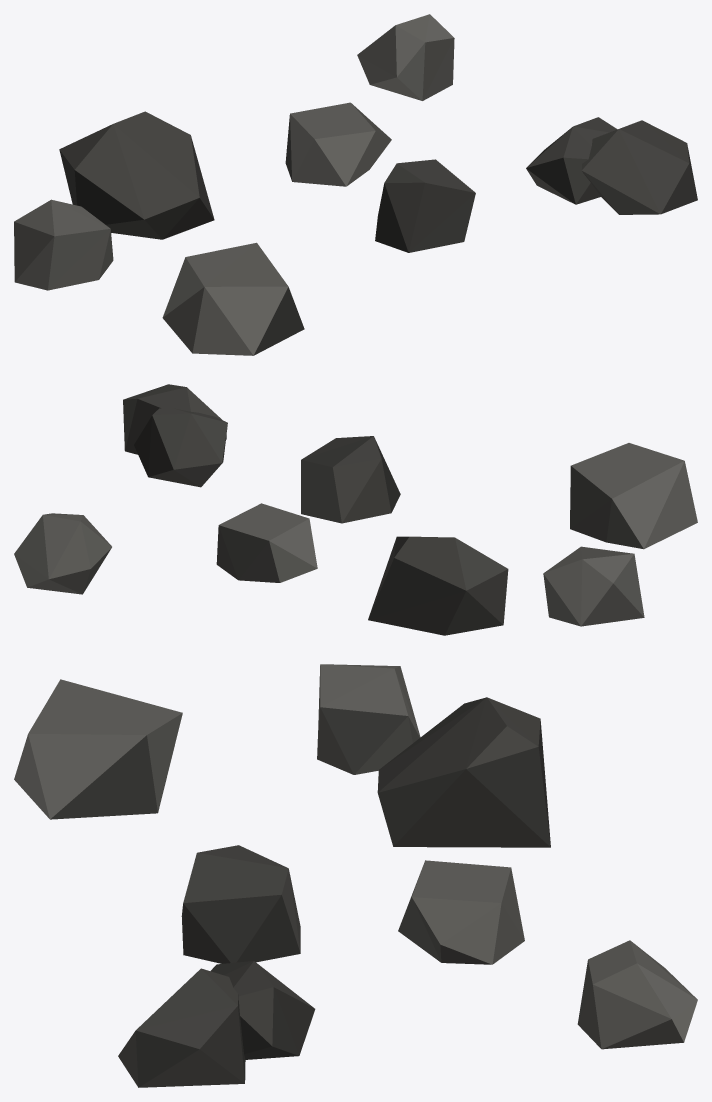
The model's file is SM_Env_Rock_Pebbles_06.fbx.
3 views of the same model, one above another, from view 1: azimuth 30°, elevation 25°; view 2: azimuth 150°, elevation 25°; view 3: azimuth 270°, elevation 25° (orthographic). The views are drawn at different scales.
Parts seen in each view (by area): view 1: SM_Env_Rock_Pebbles_06; view 2: SM_Env_Rock_Pebbles_06; view 3: SM_Env_Rock_Pebbles_06.
Boxes of the visible parts, <box> form: SM_Env_Rock_Pebbles_06: <box>14,14,697,355</box>; SM_Env_Rock_Pebbles_06: <box>14,384,697,635</box>; SM_Env_Rock_Pebbles_06: <box>14,664,697,1087</box>.
Size of the model in its own units: 83.59 by 11.92 by 63.34.
1 material, 1 textured.
